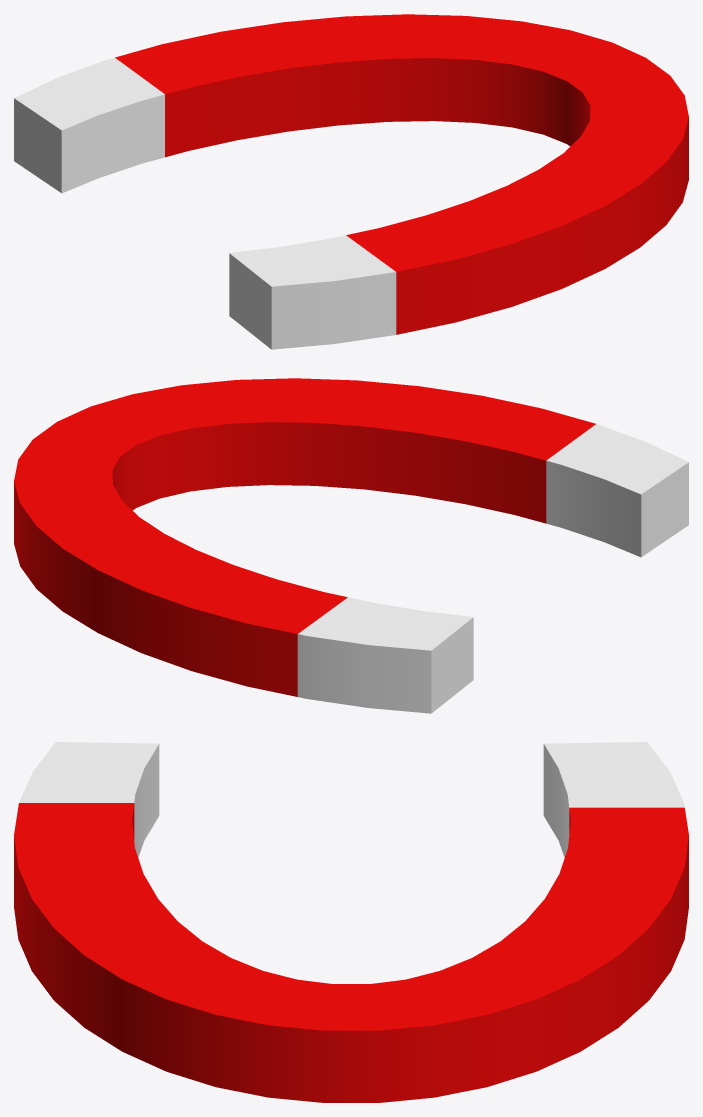
File: magnet.dae
3 renders of one model, top to bottom at view 1: azimuth 30°, elevation 25°; view 2: azimuth 150°, elevation 25°; view 3: azimuth 270°, elevation 25°, orthographic. The views are drawn at different scales.
Visible parts, largest first — view 1: SketchUp (×5); view 2: SketchUp (×4); view 3: SketchUp (×4).
Boxes of the visible parts, <box> form: SketchUp (×5): <box>14,14,688,349</box>; SketchUp (×4): <box>14,378,688,713</box>; SketchUp (×4): <box>14,742,688,1102</box>.
Bounding box in the file's own units: 1.01 × 0.9991 × 0.1181.
